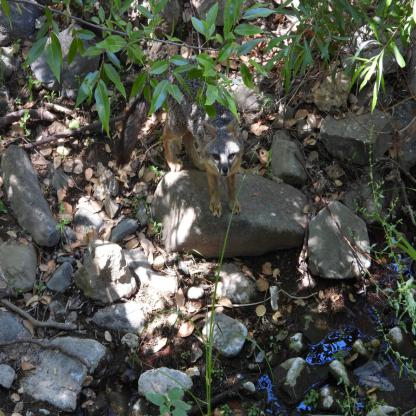zorro: (142, 52, 248, 226)
